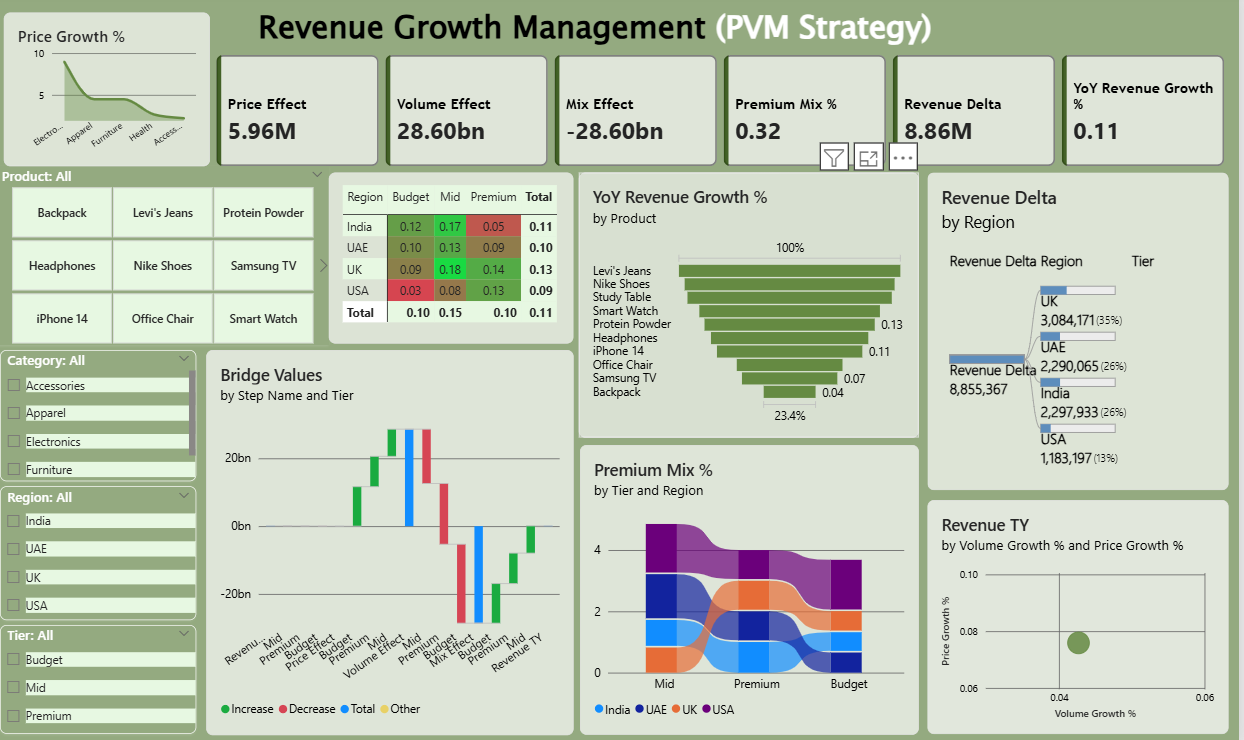

What the dashboard file says about the page in this screenshot:
{"tool":"powerbi","page":{"name":"Page 1","canvas":[1500,900],"ordinal":0},"visuals":[{"type":"cardVisual","fields":{"Data":["RGM_Elite_Data.Price Effect","RGM_Elite_Data.Volume Effect","RGM_Elite_Data.Mix Effect","RGM_Elite_Data.Premium Mix %","RGM_Elite_Data.Revenue Delta","RGM_Elite_Data.YoY Revenue Growth %"]},"box":[266.9,72.4,1221.5,134.2],"z":0},{"type":"waterfallChart","fields":{"Breakdown":["RGM_Elite_Data.Tier"],"Y":["RGM_Elite_Data.Bridge Values"],"Category":["Table (2).Step Name"]},"box":[254.9,428.3,443.4,464.5],"z":1000},{"type":"ribbonChart","fields":{"Y":["RGM_Elite_Data.Premium Mix %"],"Category":["RGM_Elite_Data.Tier"],"Series":["RGM_Elite_Data.Region"]},"box":[705.8,542.9,408.7,349.9],"z":2000},{"type":"pivotTable","fields":{"Rows":["RGM_Elite_Data.Region"],"Columns":["RGM_Elite_Data.Tier"],"Values":["RGM_Elite_Data.YoY Revenue Growth %"]},"box":[402.6,214.1,295.6,206.6],"z":3000},{"type":"scatterChart","fields":{"Y":["RGM_Elite_Data.Price Growth %"],"X":["RGM_Elite_Data.Volume Growth %"],"Size":["RGM_Elite_Data.Revenue TY"]},"box":[1125,609.3,363.4,282],"z":4000},{"type":"DecompositionTree1234567890ABCDEF1234567890AB","fields":{"analyze":["RGM_Elite_Data.Revenue Delta"],"explain":["RGM_Elite_Data.Region","RGM_Elite_Data.Tier"]},"box":[1125,214.1,363.4,383],"z":5000},{"type":"funnel","fields":{"Y":["RGM_Elite_Data.YoY Revenue Growth %"],"Category":["RGM_Elite_Data.Product"]},"box":[704.3,214.1,410.2,319.7],"z":6000},{"type":"slicer","fields":{"Values":["RGM_Elite_Data.Category"]},"box":[6,428.3,236.8,158.3],"z":7000},{"type":"slicer","fields":{"Values":["RGM_Elite_Data.Region"]},"box":[6,592.7,236.8,161.4],"z":8000},{"type":"slicer","fields":{"Values":["RGM_Elite_Data.Tier"]},"box":[6,760.1,236.8,131.2],"z":9000},{"type":"slicer","fields":{"Values":["RGM_Elite_Data.Product"]},"box":[0,206.6,402.6,215.7],"z":10000},{"type":"textbox","box":[0,10.6,1447.7,61.8],"z":11000},{"type":"areaChart","title":" Price Growth %","fields":{"Y":["Sum(RGM_Elite_Data.Price Growth %)"],"Category":["RGM_Elite_Data.Category"]},"box":[10.6,21.1,248.8,185.5],"z":12000}]}

Visuals, with their boxes in screenshot pixels (x1, y1, x2, y2), scaled from the page's 1500x900 canvas onto the 1244x740 screenshot:
cardVisual - RGM_Elite_Data.Price Effect x RGM_Elite_Data.Volume Effect: select_region(221, 60, 1234, 170)
waterfallChart - RGM_Elite_Data.Tier x RGM_Elite_Data.Bridge Values: select_region(211, 352, 579, 734)
ribbonChart - RGM_Elite_Data.Premium Mix % x RGM_Elite_Data.Tier: select_region(585, 446, 924, 734)
pivotTable - RGM_Elite_Data.Region x RGM_Elite_Data.Tier: select_region(334, 176, 579, 346)
scatterChart - RGM_Elite_Data.Price Growth % x RGM_Elite_Data.Volume Growth %: select_region(933, 501, 1234, 733)
DecompositionTree1234567890ABCDEF1234567890AB - RGM_Elite_Data.Revenue Delta x RGM_Elite_Data.Region: select_region(933, 176, 1234, 491)
funnel - RGM_Elite_Data.YoY Revenue Growth % x RGM_Elite_Data.Product: select_region(584, 176, 924, 439)
slicer - RGM_Elite_Data.Category: select_region(5, 352, 201, 482)
slicer - RGM_Elite_Data.Region: select_region(5, 487, 201, 620)
slicer - RGM_Elite_Data.Tier: select_region(5, 625, 201, 733)
slicer - RGM_Elite_Data.Product: select_region(0, 170, 334, 347)
textbox: select_region(0, 9, 1201, 60)
" Price Growth %" areaChart: select_region(9, 17, 215, 170)
